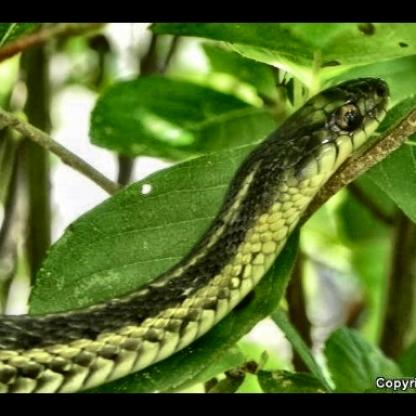Snake: (5, 70, 395, 393)
